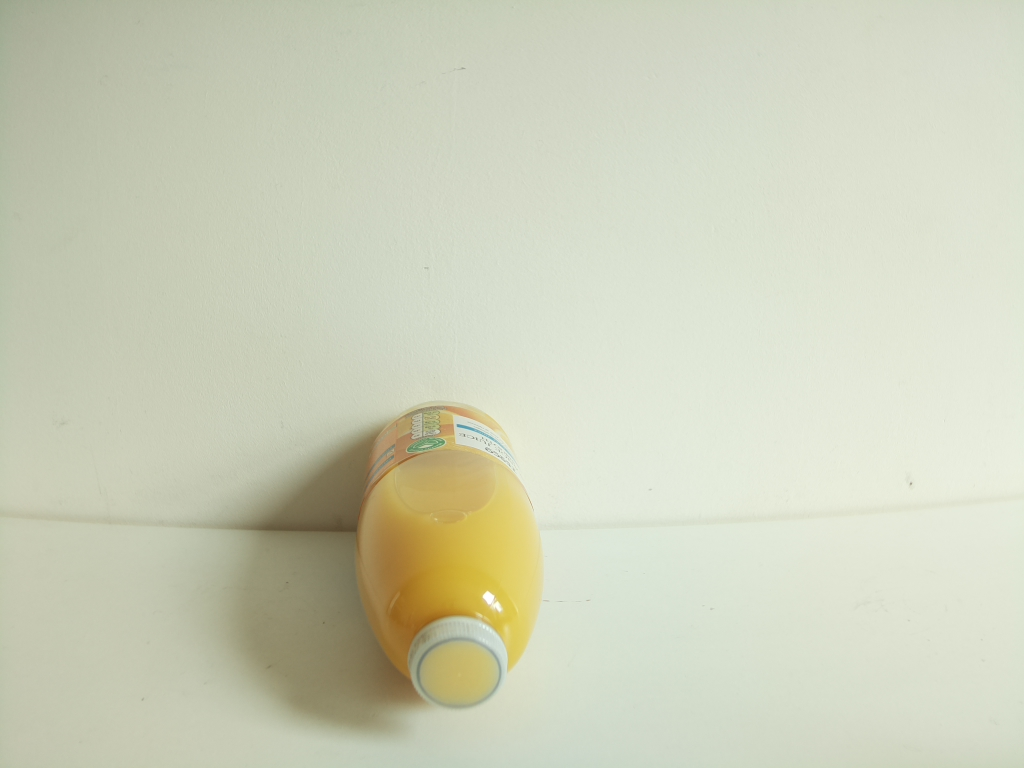juice: (352, 401, 549, 719)
